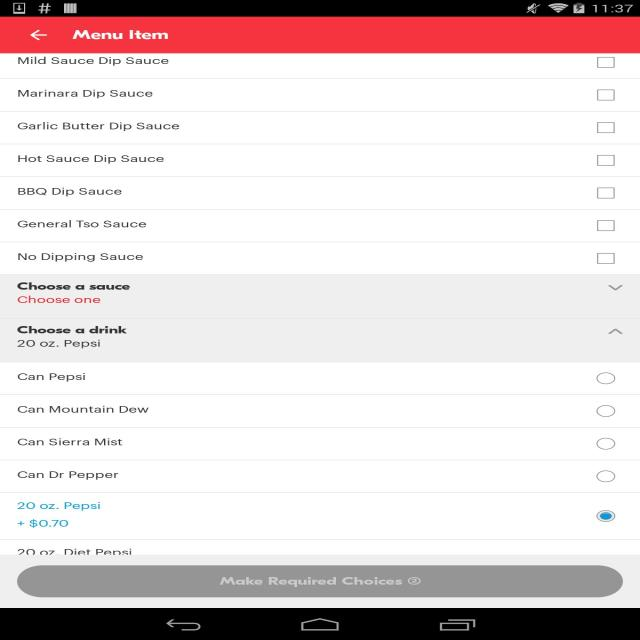button: (2, 275, 640, 318), (0, 320, 637, 361), (14, 563, 625, 598), (591, 506, 626, 526), (592, 370, 623, 387), (591, 86, 621, 102), (594, 468, 618, 486), (24, 28, 49, 44), (594, 402, 616, 419), (596, 120, 618, 136), (595, 218, 617, 234), (597, 435, 615, 454), (596, 250, 616, 267), (594, 186, 616, 201), (594, 55, 616, 69), (596, 155, 616, 168)
heading: (70, 29, 173, 44)
text: (13, 322, 134, 351), (11, 279, 133, 304), (12, 119, 182, 135), (16, 54, 173, 70), (15, 501, 106, 527), (15, 152, 171, 167), (14, 88, 158, 102), (14, 218, 150, 232), (15, 405, 158, 418), (14, 250, 152, 263), (13, 183, 128, 198), (18, 437, 126, 451), (18, 468, 125, 479), (18, 372, 88, 382)
